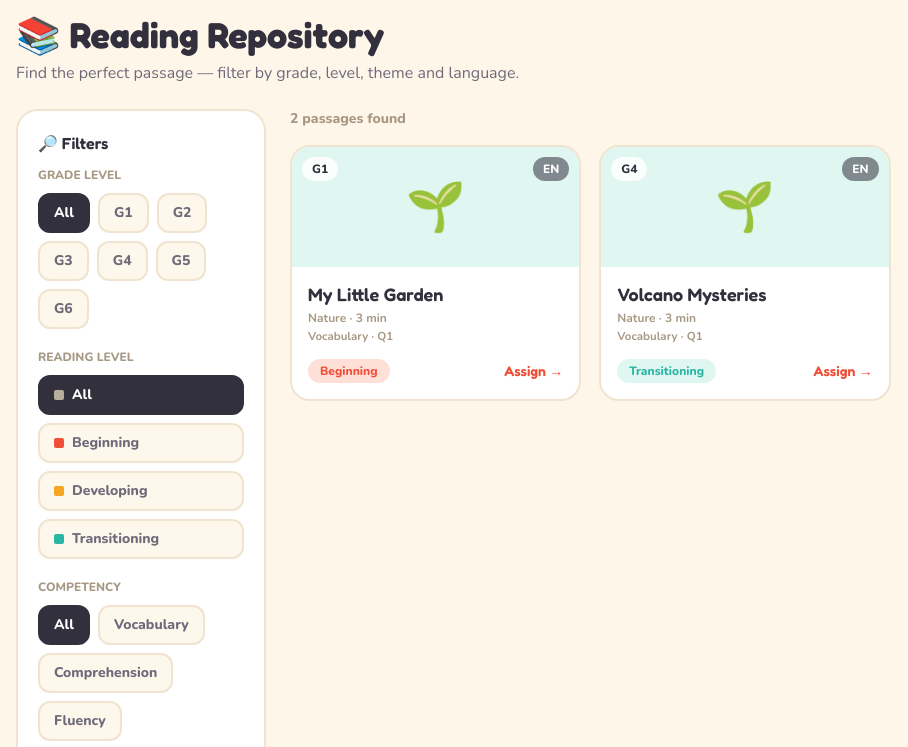
Test case: RepositoryView › filters the grid when a grade chip is clicked
Check: the text "2 passages found" is shown, box [290,109,406,128]
Click the button "G1".
click(123, 213)  # box [98,193,149,233]
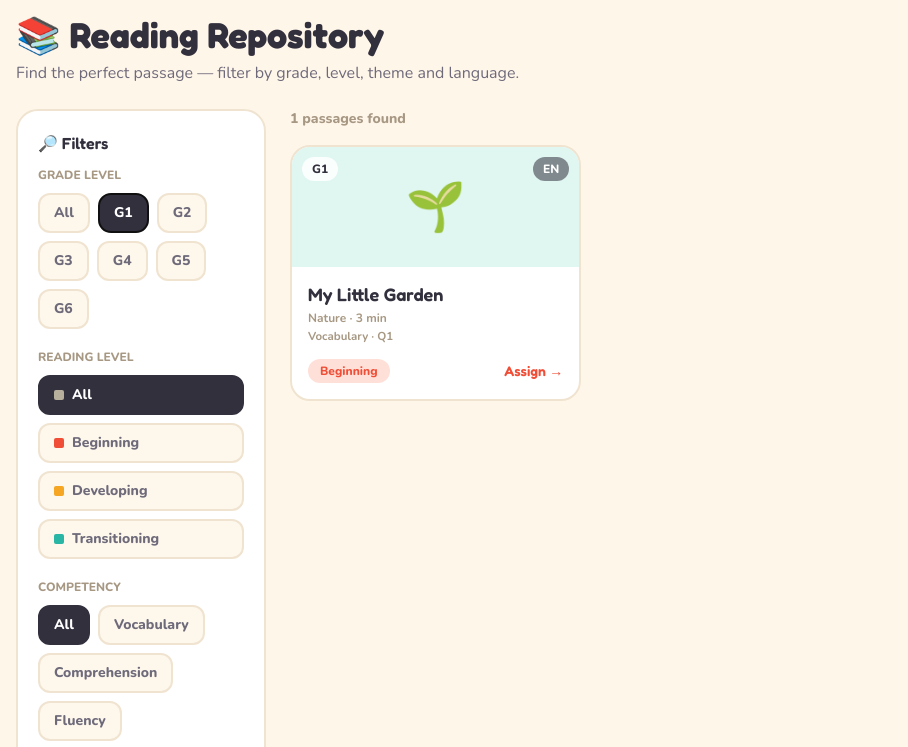
Check: the text "My Little Garden" is shown, box [308,283,443,305]
Check: the text "1 passages found" is shown, box [290,109,406,128]
Check: the link "Volcano Mysteries" is gone
